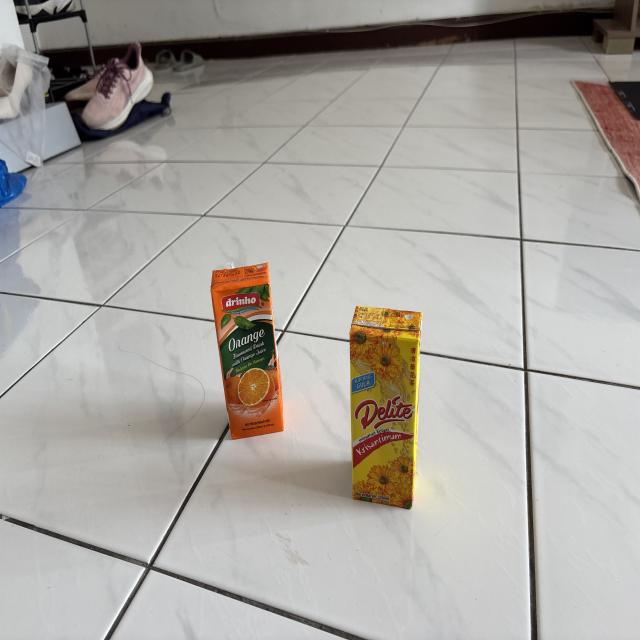drink_carton: (344, 293, 430, 518), (204, 257, 289, 449)
